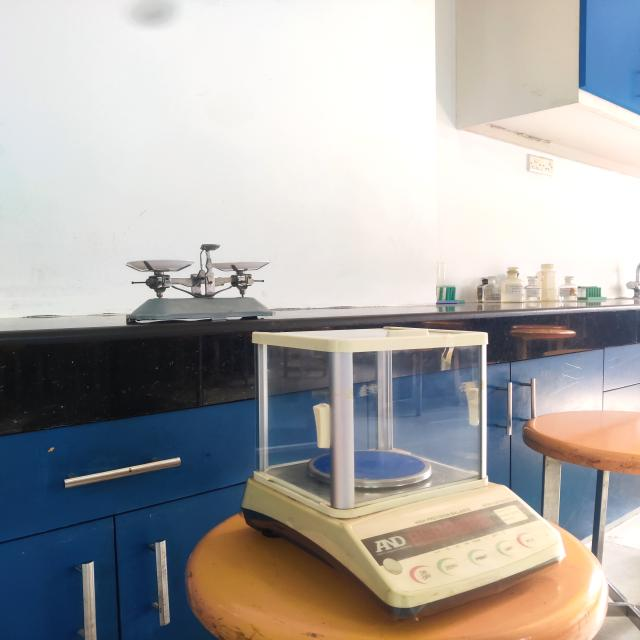Mechanical_Balance_Scale: (104, 227, 294, 347)
Precision_Weight_Scale: (226, 310, 602, 640)
